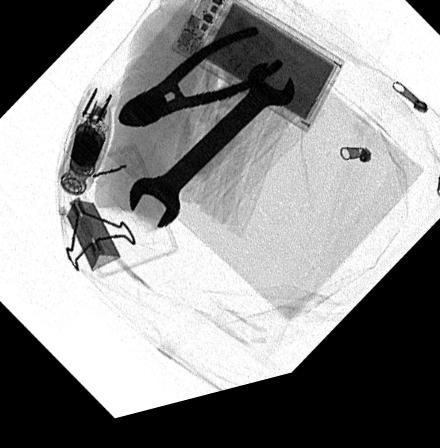Pliers: (117, 37, 286, 133)
Powerbank: (171, 0, 346, 148)
Wrench: (129, 73, 296, 235)
